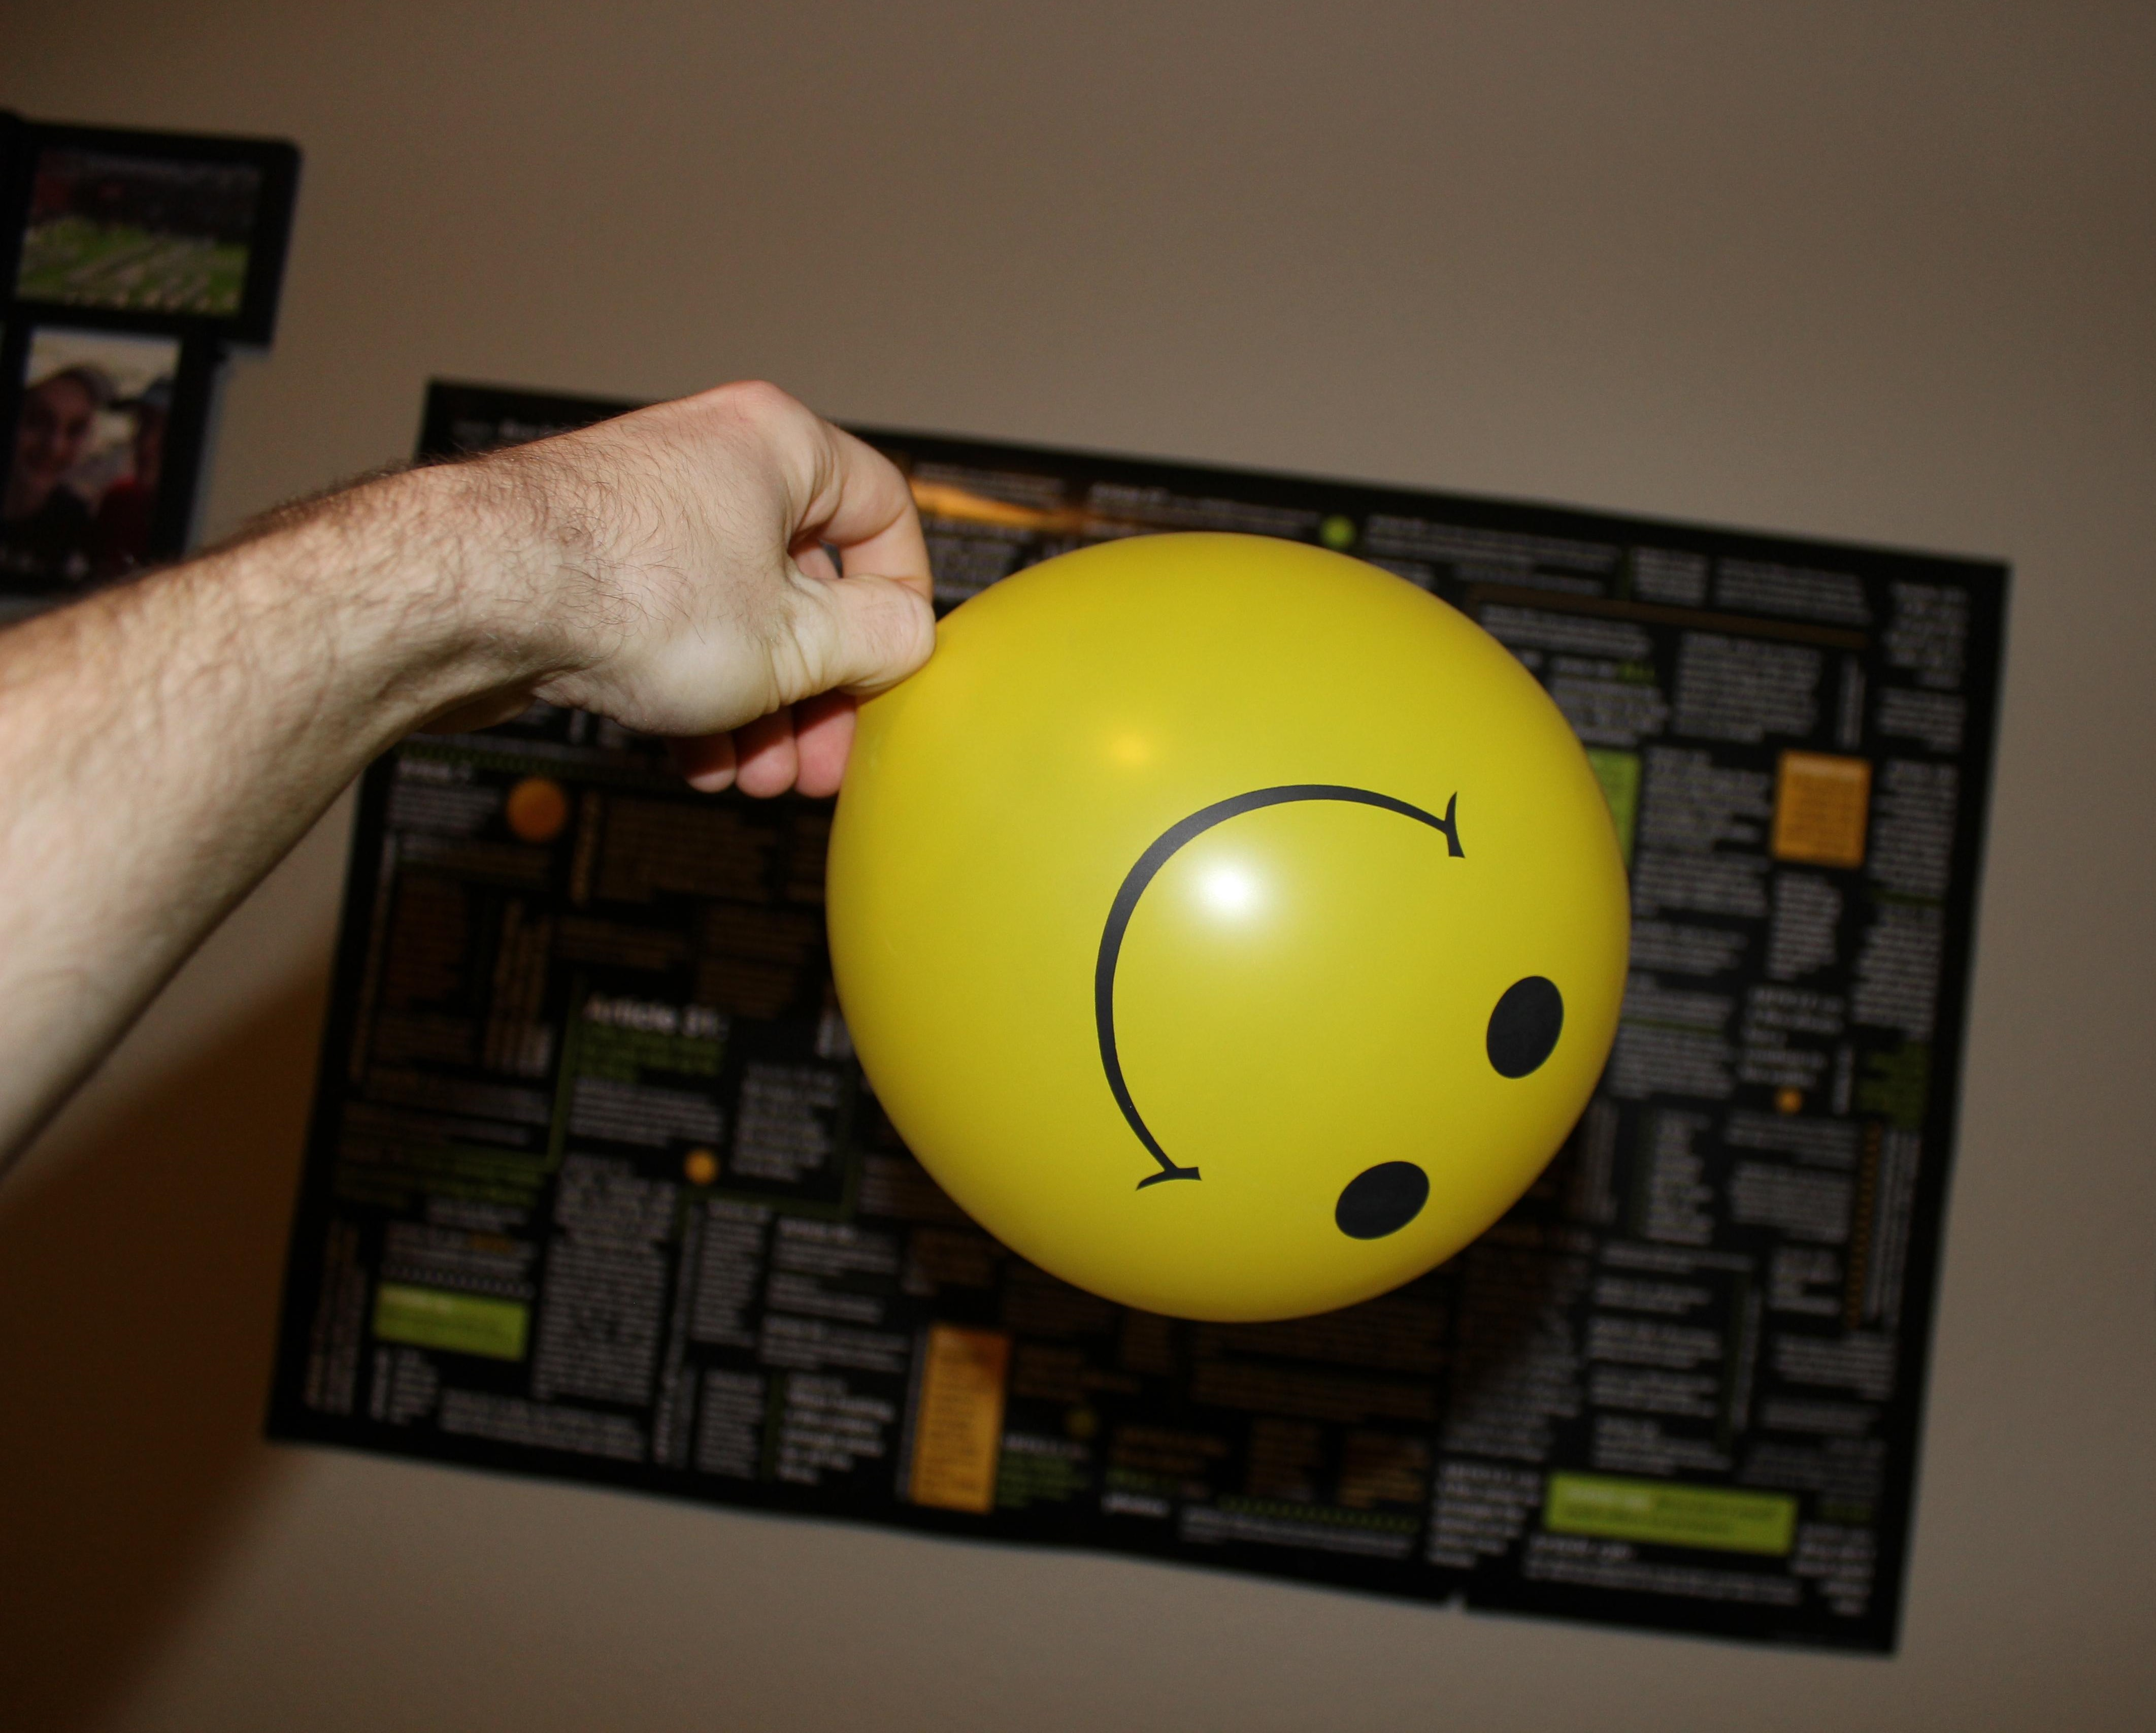yellowBalloon: (778, 497, 1672, 1358)
